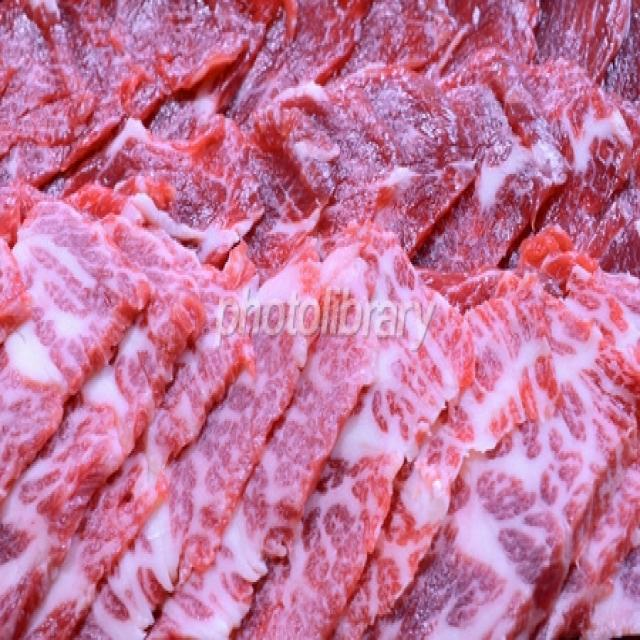刺身生食: (2, 4, 628, 632)
